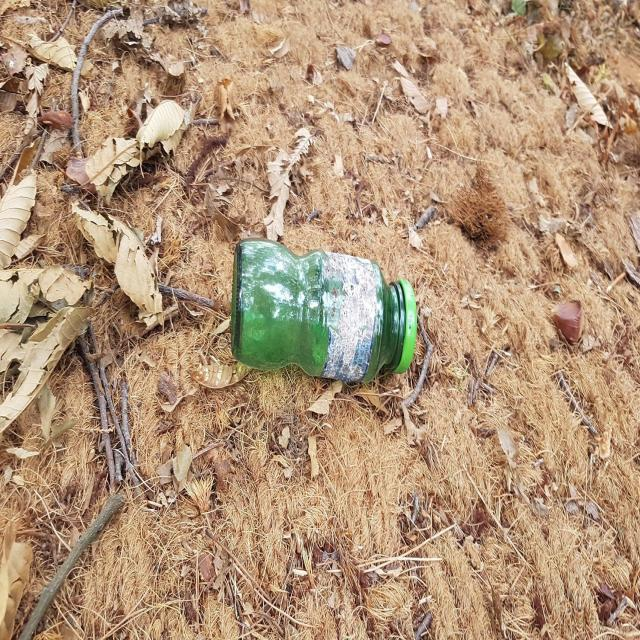glass: (231, 238, 418, 382)
